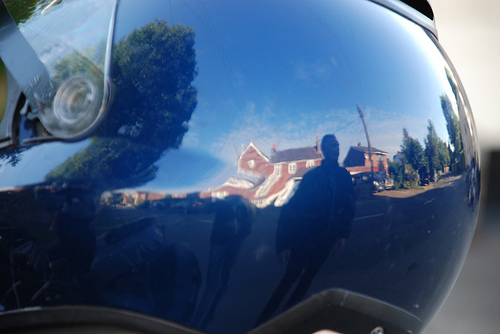helmet: (9, 4, 484, 334)
